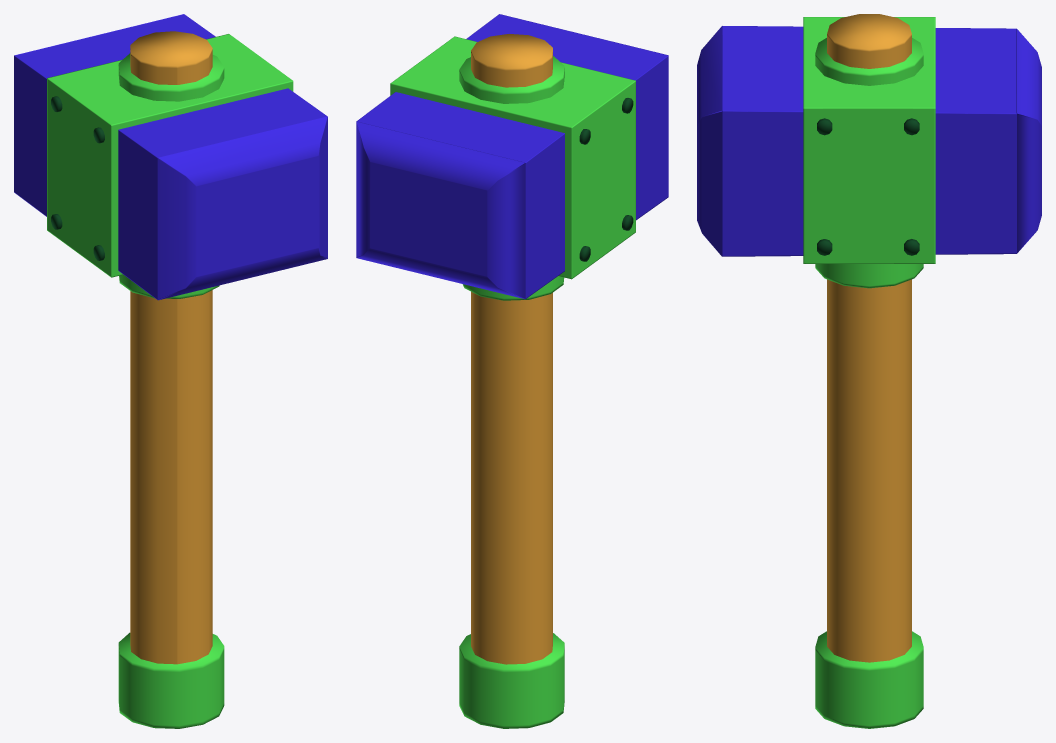
File: martilloLow.fbx
3 views of the same model, side by side, from view 1: azimuth 30°, elevation 25°; view 2: azimuth 150°, elevation 25°; view 3: azimuth 270°, elevation 25° (orthographic). The views are drawn at different scales.
Visible parts, largest first — view 1: pCube2.006; view 2: pCube2.006; view 3: pCube2.006.
Part boxes in pixels (x1=…): pCube2.006: x1=14, y1=14, x2=327, y2=728; pCube2.006: x1=356, y1=14, x2=668, y2=728; pCube2.006: x1=697, y1=14, x2=1041, y2=728.
Bounding box in the file's own units: 62.41 × 206 × 95.44.
